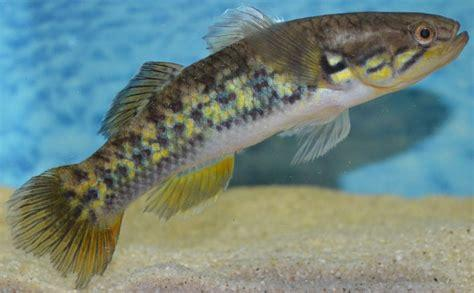Goby: (6, 5, 469, 288)
